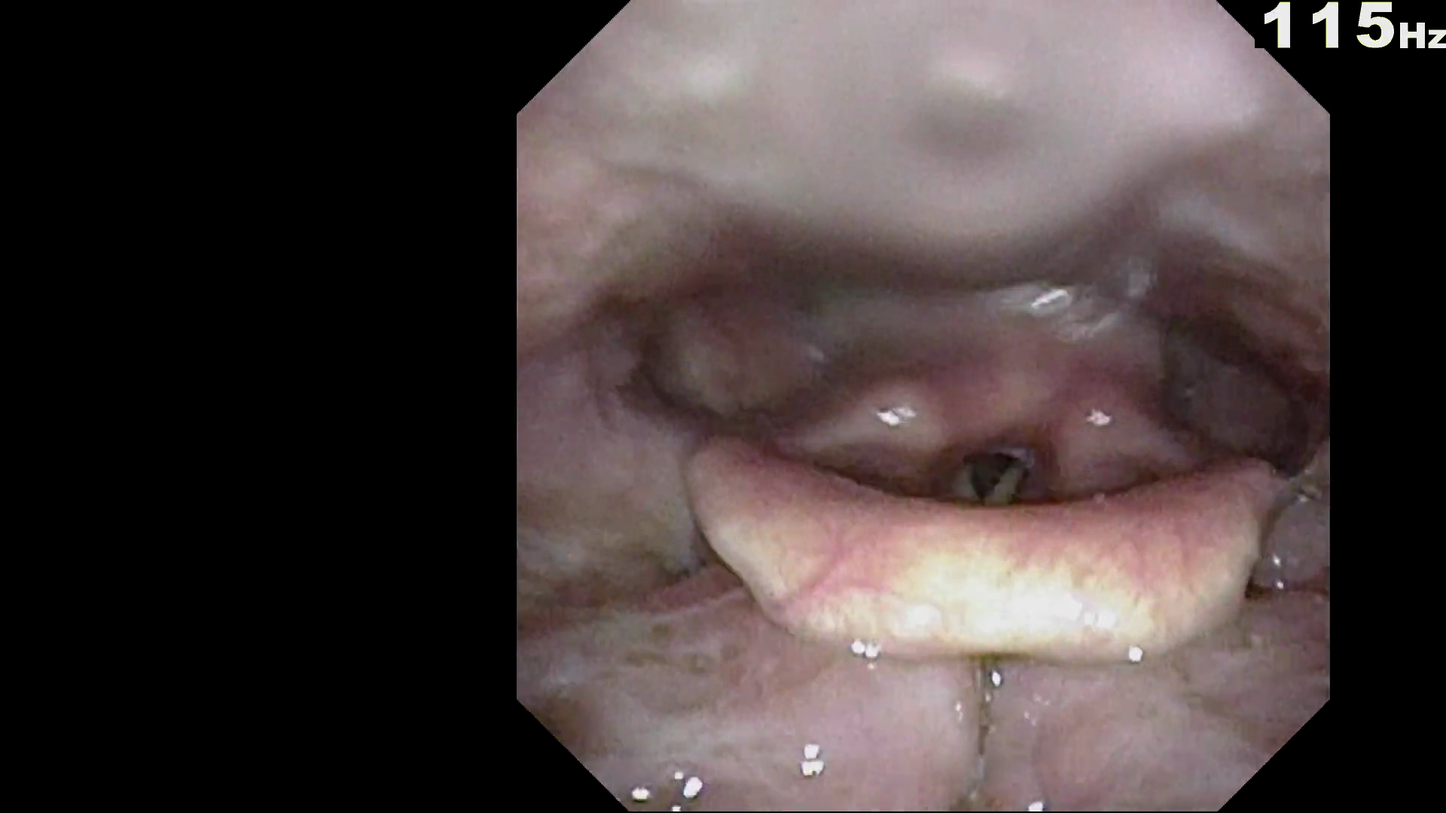epiglottis: (670, 456, 1315, 664)
trachea: (931, 426, 1061, 499)
